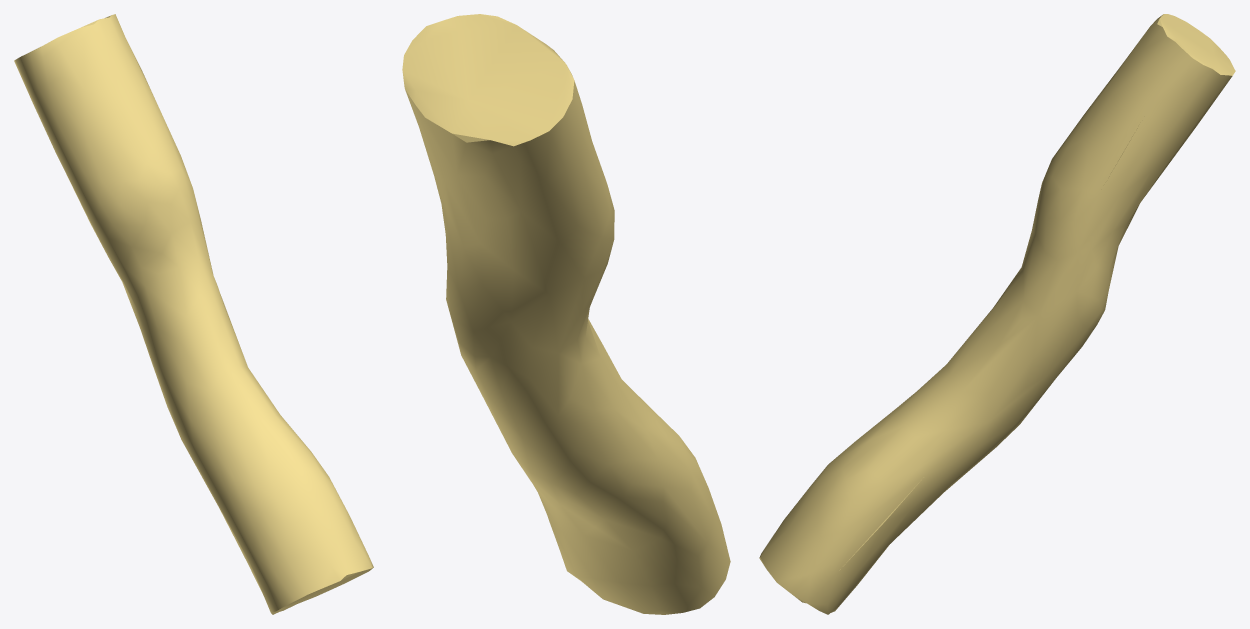
File: fma73389_fj7486m.glb
The picture shows the model from 3 angles, left to right: view 1: azimuth 30°, elevation 25°; view 2: azimuth 150°, elevation 25°; view 3: azimuth 270°, elevation 25°; orthographic projection. The views are drawn at different scales.
Parts seen in each view (by area): view 1: FMA73389_FJ7486M; view 2: FMA73389_FJ7486M; view 3: FMA73389_FJ7486M.
Boxes of the visible parts, x1,y1,x2,y2 form: FMA73389_FJ7486M: [14, 14, 373, 614]; FMA73389_FJ7486M: [402, 14, 730, 614]; FMA73389_FJ7486M: [759, 14, 1235, 614].
Bounding box in the file's own units: 0.00286 × 0.00757 × 0.00595.
